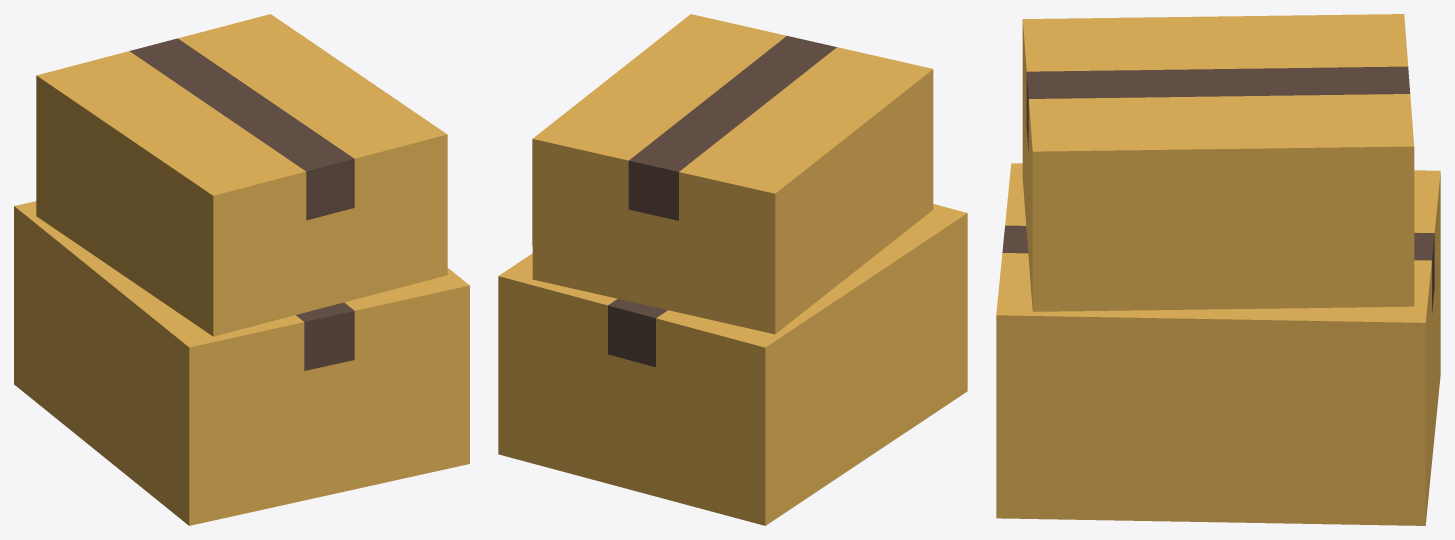
3 views of the same model, side by side, from view 1: azimuth 30°, elevation 25°; view 2: azimuth 150°, elevation 25°; view 3: azimuth 270°, elevation 25° (orthographic). The views are drawn at different scales.
Visible parts, largest first — view 1: inside__M_Cnsw_58_ShelfSet_Obj_Design_B_cardboard; view 2: inside__M_Cnsw_58_ShelfSet_Obj_Design_B_cardboard; view 3: inside__M_Cnsw_58_ShelfSet_Obj_Design_B_cardboard.
Part boxes in pixels (x1,y1,x2,y2): inside__M_Cnsw_58_ShelfSet_Obj_Design_B_cardboard: (14,14,469,525); inside__M_Cnsw_58_ShelfSet_Obj_Design_B_cardboard: (498,14,967,525); inside__M_Cnsw_58_ShelfSet_Obj_Design_B_cardboard: (996,14,1440,525).
Size of the model in its own units: 10869 by 11528 by 12783.
